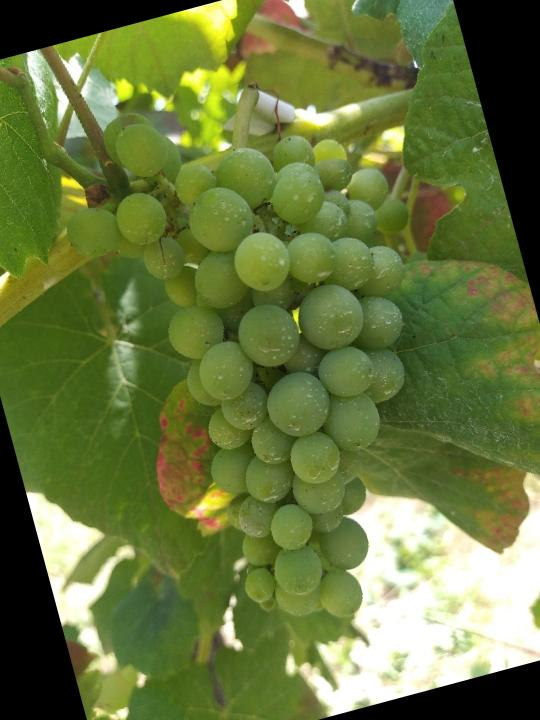grape: (38, 48, 508, 664)
